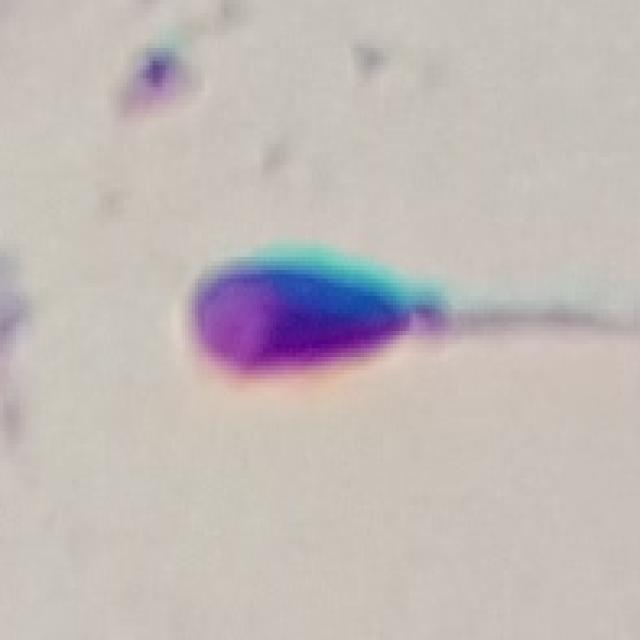abnormal sperm: (187, 250, 584, 381)
